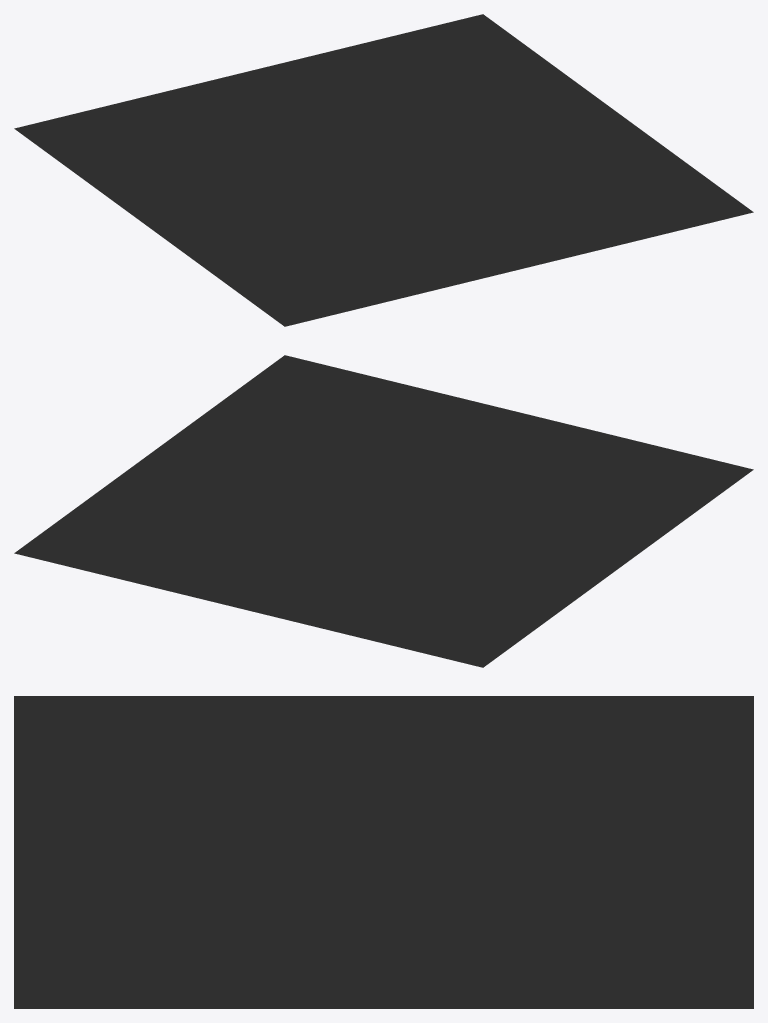
The model's file is SeaBed.gltf.
The picture shows the model from 3 angles, top to bottom: view 1: azimuth 30°, elevation 25°; view 2: azimuth 150°, elevation 25°; view 3: azimuth 270°, elevation 25°; orthographic projection. The views are drawn at different scales.
Visible parts, largest first — view 1: zlig.island.lvl0_seabed.001; view 2: zlig.island.lvl0_seabed.001; view 3: zlig.island.lvl0_seabed.001.
Boxes of the visible parts, x1,y1,x2,y2 form: zlig.island.lvl0_seabed.001: (14,14,753,326); zlig.island.lvl0_seabed.001: (14,355,753,667); zlig.island.lvl0_seabed.001: (14,696,753,1008).
Bounding box in the file's own units: 300 × 0 × 300.
1 material, 1 textured.
